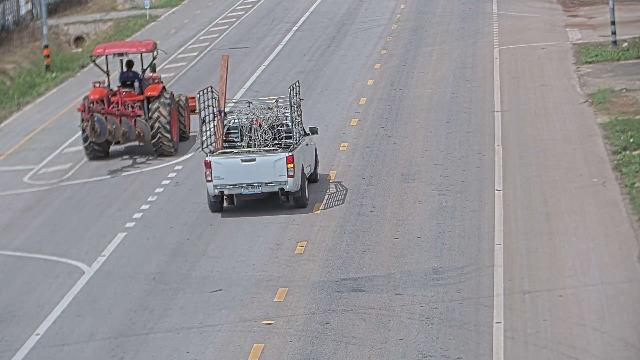pickup-truck: (195, 79, 320, 213)
